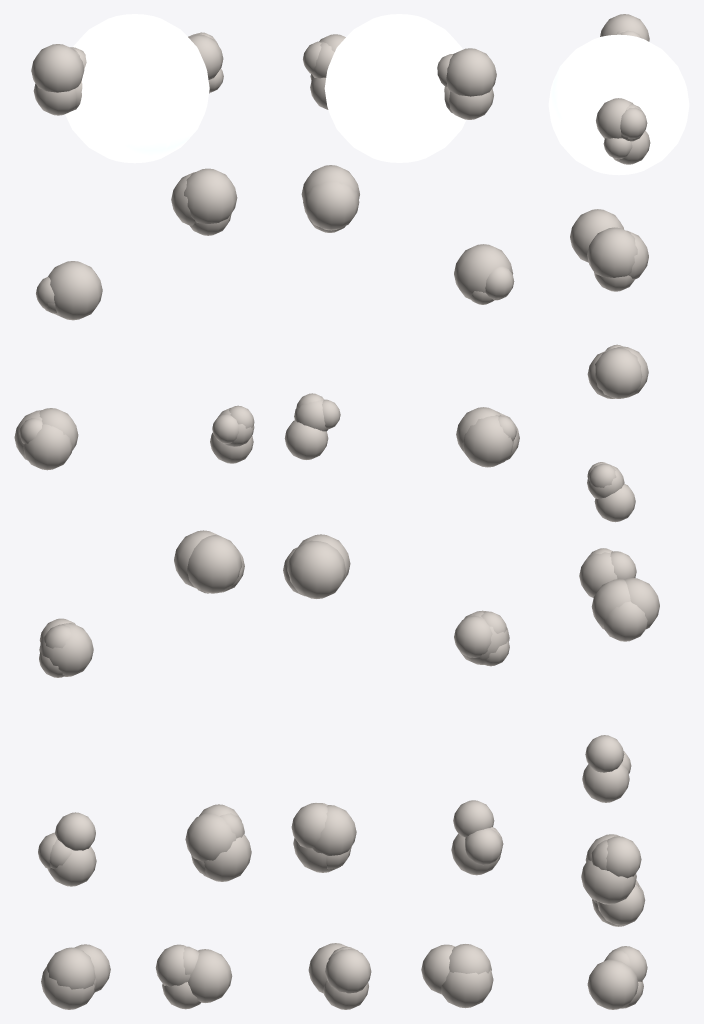
The model's file is canyon_ghibli.glb.
3 renders of one model, left to right at view 1: azimuth 30°, elevation 25°; view 2: azimuth 150°, elevation 25°; view 3: azimuth 270°, elevation 25°, orthographic. The views are drawn at different scales.
Parts seen in each view (by area): view 1: GhibliCloud_Cluster_0, Sky_Mat_0; view 2: GhibliCloud_Cluster_0, Sky_Mat_0; view 3: GhibliCloud_Cluster_0, Sky_Mat_0.
Boxes of the visible parts, x1,y1,x2,y2 form: GhibliCloud_Cluster_0: [14, 32, 254, 1009]; Sky_Mat_0: [65, 14, 209, 163]; GhibliCloud_Cluster_0: [283, 34, 519, 1009]; Sky_Mat_0: [324, 14, 466, 162]; GhibliCloud_Cluster_0: [570, 14, 659, 1009]; Sky_Mat_0: [548, 34, 689, 175].
Size of the model in its own units: 21.18 by 88.57 by 12.02.
4 materials, 3 textured.
